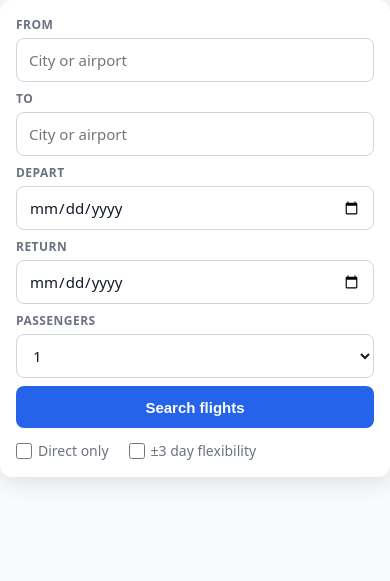
it: HomeSearchBar › rejects return date earlier than depart with inline error
The image size is (390, 581).
Type "LHR" into the dropdown labelled "From".
click(195, 60); type("LHR")  # box [16,38,374,82]
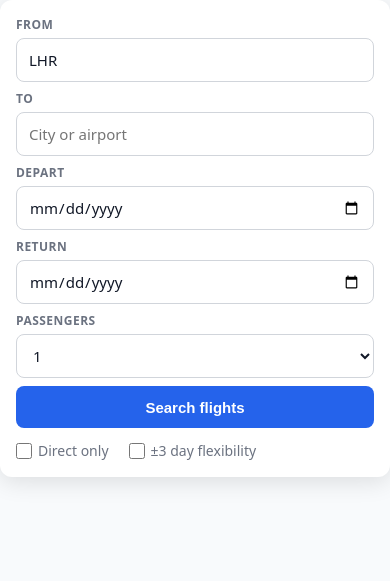
Type "JFK" into the dropdown labelled "To".
click(195, 134); type("JFK")  # box [16,112,374,156]
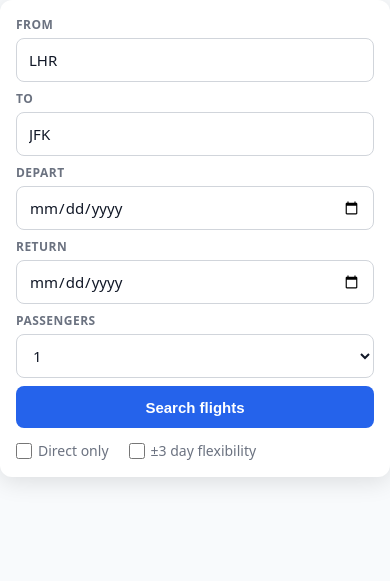
Type "2099-06-15" into the date field labelled "Depart".
click(195, 208); type("2099-06-15")  # box [16,186,374,230]
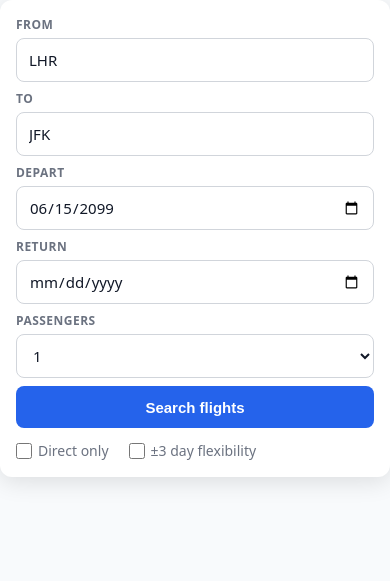
Type "2099-06-10" into the date field labelled "Return".
click(195, 282); type("2099-06-10")  # box [16,260,374,304]
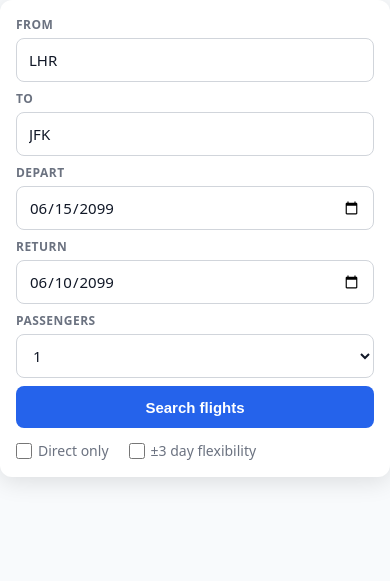
Click the button "Search flights".
click(195, 407)  # box [16,386,374,428]
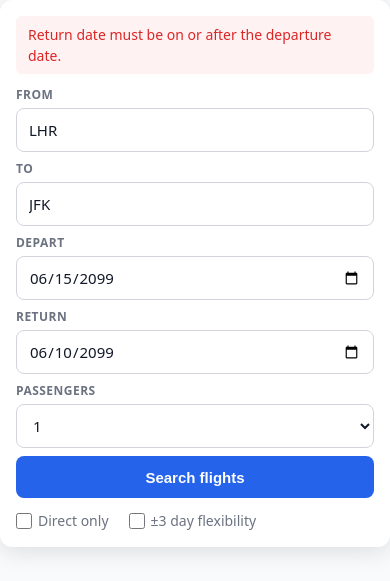
Expected: the message shows "Return", [28,25,332,65]
